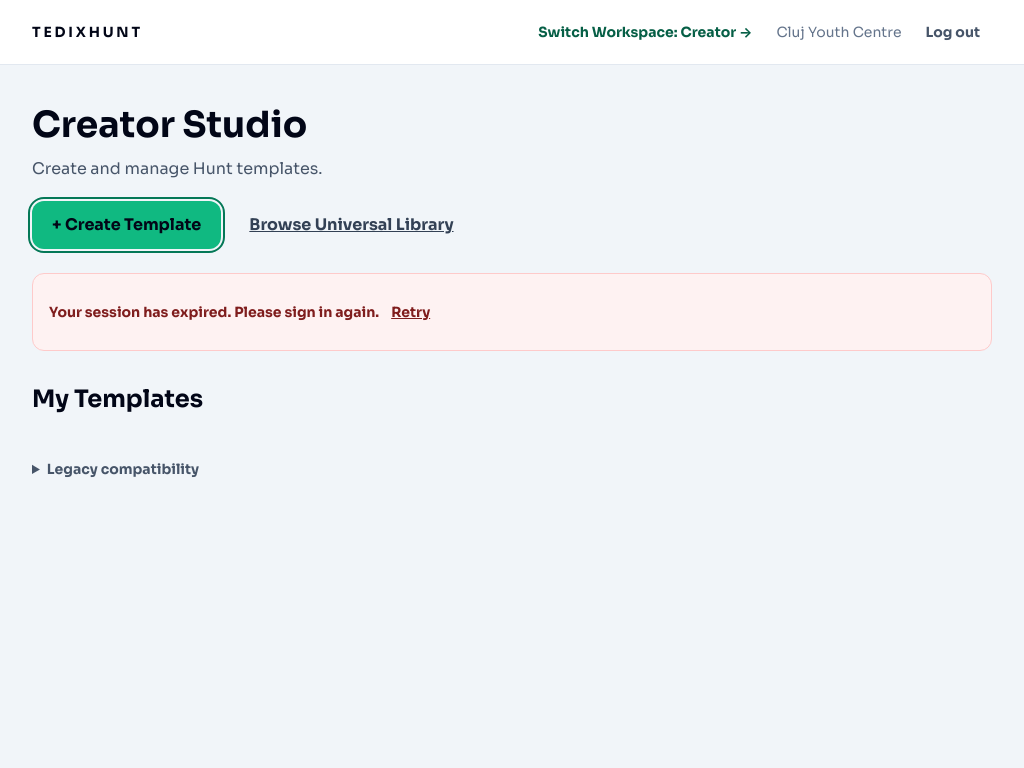
list error 401 retains guidance and supports retry
Expected: the message "Your session has expired. Please sign in again. Retry" is shown, [32, 273, 992, 351]
Click the button "+ Create Template".
click(127, 225)  # box [32, 201, 221, 249]
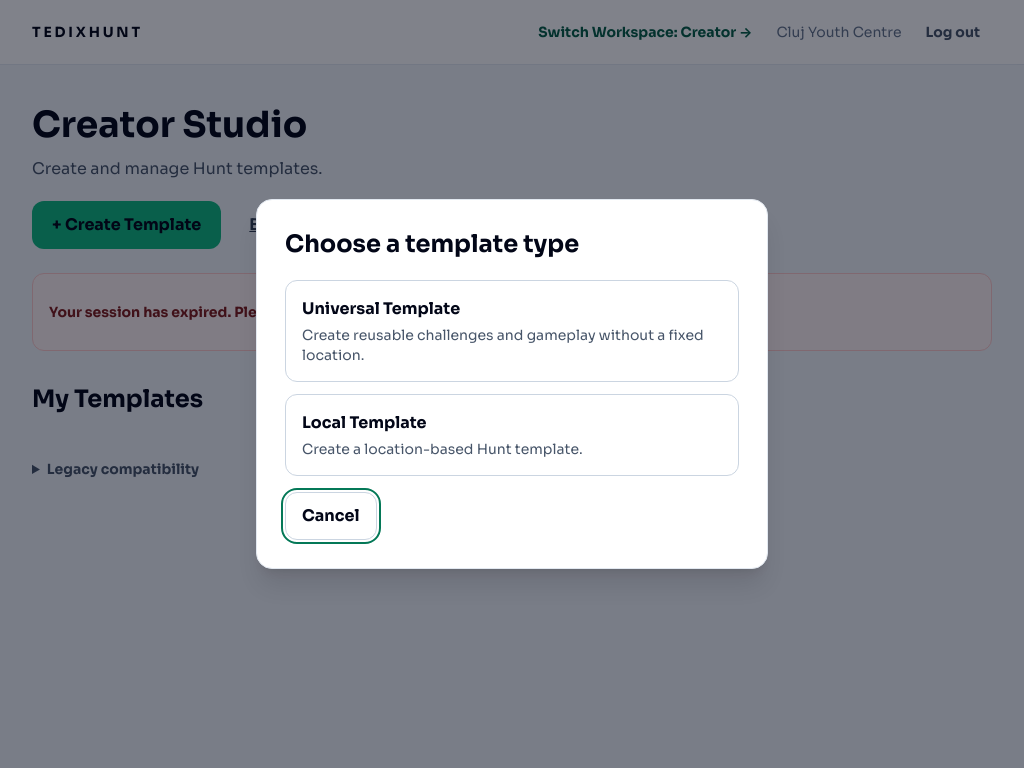
Click the button "Cancel".
click(331, 516)  # box [285, 492, 376, 540]
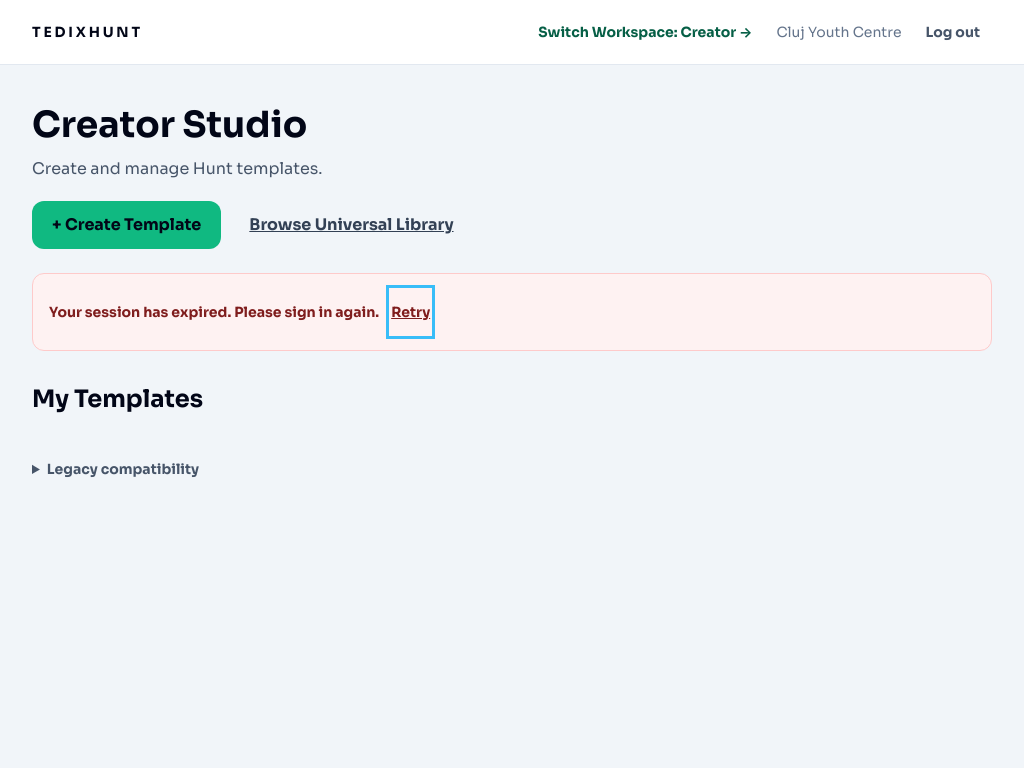
Click the button "Retry".
click(411, 312)  # box [391, 290, 430, 334]
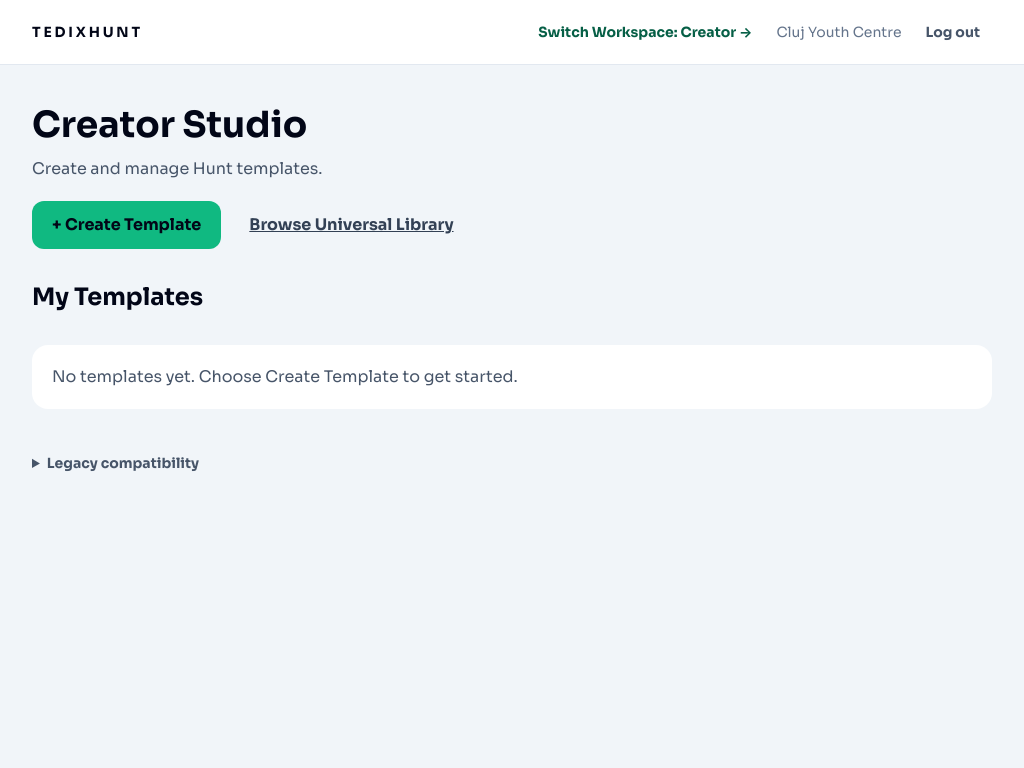
Now the message "Your session has expired. Please sign in again. Retry" is gone
